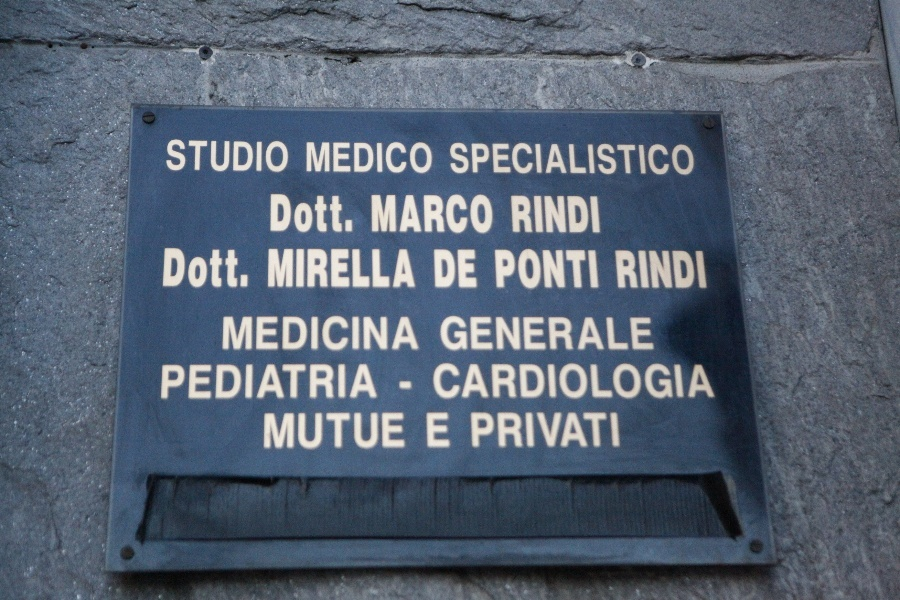text: (401, 248, 417, 289), (385, 193, 400, 235), (401, 193, 416, 235), (417, 193, 432, 235), (433, 193, 448, 235), (449, 193, 464, 235), (465, 193, 480, 235), (177, 248, 192, 289), (193, 248, 208, 289), (209, 248, 224, 289), (225, 248, 240, 289), (273, 248, 288, 289), (289, 248, 304, 289), (305, 248, 320, 289), (321, 248, 336, 289), (337, 248, 352, 289), (353, 248, 368, 289), (369, 248, 384, 289), (385, 248, 400, 289), (497, 249, 512, 290), (513, 249, 528, 290), (529, 249, 544, 290), (545, 249, 560, 290), (561, 249, 576, 290), (577, 249, 592, 290), (433, 361, 448, 402), (449, 361, 464, 402), (465, 361, 480, 402), (481, 361, 496, 402), (497, 361, 512, 402), (513, 361, 528, 402), (529, 361, 544, 402), (545, 361, 560, 402), (561, 361, 576, 402), (577, 361, 592, 402), (593, 361, 608, 402), (609, 361, 624, 402), (625, 361, 640, 402), (641, 361, 656, 402), (657, 361, 672, 402), (673, 361, 688, 402), (689, 361, 704, 402), (273, 194, 288, 234), (289, 194, 304, 234), (305, 194, 320, 234), (321, 194, 336, 234), (337, 194, 352, 234), (449, 249, 464, 289), (273, 411, 288, 451), (289, 411, 304, 451), (305, 411, 320, 451), (321, 411, 336, 451), (337, 411, 352, 451), (353, 411, 368, 451), (369, 411, 384, 451), (385, 411, 400, 451), (513, 195, 528, 234), (529, 195, 544, 234), (545, 195, 560, 234), (561, 195, 576, 234), (577, 195, 592, 234), (625, 250, 640, 289), (641, 250, 656, 289), (657, 250, 672, 289), (673, 250, 688, 289), (689, 250, 704, 289), (273, 138, 289, 174), (705, 361, 719, 402), (177, 363, 192, 401), (193, 363, 208, 401), (209, 363, 224, 401), (225, 363, 240, 401), (241, 363, 256, 401), (257, 363, 272, 401), (273, 363, 288, 401), (289, 363, 304, 401), (305, 363, 320, 401), (321, 363, 336, 401), (337, 363, 352, 401), (353, 363, 368, 401), (481, 411, 496, 449), (497, 411, 512, 449), (513, 411, 528, 449), (529, 411, 544, 449), (545, 411, 560, 449), (561, 411, 576, 449), (577, 411, 592, 449), (593, 411, 608, 449), (434, 249, 448, 289), (449, 315, 464, 352), (465, 315, 480, 352), (481, 315, 496, 352), (497, 315, 512, 352), (513, 315, 528, 352), (529, 315, 544, 352), (545, 315, 560, 352), (561, 315, 576, 352), (577, 315, 592, 352), (593, 315, 608, 352), (609, 315, 624, 352), (625, 315, 640, 352), (641, 315, 656, 352), (225, 315, 240, 352), (241, 315, 256, 352), (257, 315, 272, 352), (273, 315, 288, 352), (289, 315, 304, 352), (305, 315, 320, 352), (321, 315, 336, 352), (337, 315, 352, 352), (353, 315, 368, 352), (369, 315, 384, 352), (385, 315, 400, 352), (401, 315, 416, 352), (433, 412, 448, 449), (371, 193, 384, 235), (481, 193, 494, 235), (177, 138, 192, 174), (193, 138, 208, 174), (209, 138, 224, 174), (225, 138, 240, 174), (241, 138, 256, 174), (257, 138, 272, 174), (162, 363, 176, 401), (449, 141, 464, 176), (465, 141, 480, 176), (481, 141, 496, 176), (497, 141, 512, 176), (513, 141, 528, 176), (529, 141, 544, 176), (545, 141, 560, 176), (561, 141, 576, 176), (577, 141, 592, 176), (593, 141, 608, 176), (609, 141, 624, 176), (625, 141, 640, 176), (641, 141, 656, 176), (657, 141, 672, 176), (673, 141, 688, 176), (465, 249, 478, 289), (609, 411, 622, 449), (321, 142, 336, 174), (337, 142, 352, 174), (353, 142, 368, 174), (369, 142, 384, 174), (385, 142, 400, 174), (401, 142, 416, 174), (417, 142, 432, 174), (165, 248, 176, 289), (306, 142, 320, 174), (369, 363, 379, 401), (470, 411, 480, 449), (615, 250, 624, 289), (241, 248, 249, 289), (264, 411, 272, 451), (593, 195, 601, 234), (440, 315, 448, 352), (168, 138, 176, 174), (593, 249, 600, 290), (689, 141, 697, 176), (401, 411, 406, 451), (427, 412, 432, 449), (268, 248, 272, 289), (417, 315, 421, 352), (705, 250, 708, 289), (449, 412, 452, 449), (401, 381, 412, 390), (270, 194, 272, 234), (495, 249, 496, 290), (353, 194, 354, 234), (511, 195, 512, 234), (223, 315, 224, 352), (399, 381, 400, 390)
